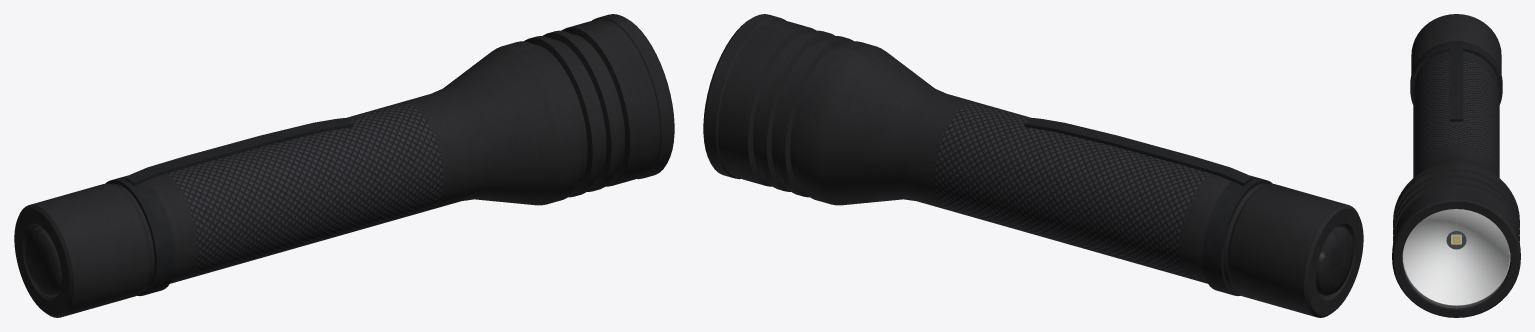
File: led_flashlight.glb
3 renders of one model, left to right at view 1: azimuth 30°, elevation 25°; view 2: azimuth 150°, elevation 25°; view 3: azimuth 270°, elevation 25°, orthographic. The views are drawn at different scales.
Parts seen in each view (by area): view 1: Flashlight body (black anodised aluminium), Pocket clip (spring steel), Clip clamp ring, Tail switch boot (rubber); view 2: Flashlight body (black anodised aluminium), Pocket clip (spring steel), Clip clamp ring, Tail switch boot (rubber); view 3: Flashlight body (black anodised aluminium), Front lens, Smooth reflector (polished), Pocket clip (spring steel), Clip clamp ring, LED board, LED emitter.
Boxes of the visible parts, <box> form: Flashlight body (black anodised aluminium): <box>14,14,674,317</box>; Pocket clip (spring steel): <box>125,118,353,185</box>; Clip clamp ring: <box>105,175,175,295</box>; Tail switch boot (rubber): <box>24,226,61,295</box>; Flashlight body (black anodised aluminium): <box>703,14,1363,317</box>; Pocket clip (spring steel): <box>1024,118,1252,185</box>; Clip clamp ring: <box>1202,175,1272,295</box>; Tail switch boot (rubber): <box>1316,226,1353,295</box>; Flashlight body (black anodised aluminium): <box>1392,14,1520,317</box>; Front lens: <box>1403,209,1509,307</box>; Smooth reflector (polished): <box>1402,209,1510,305</box>; Pocket clip (spring steel): <box>1449,41,1463,121</box>; Clip clamp ring: <box>1410,42,1502,104</box>; LED board: <box>1446,231,1466,249</box>; LED emitter: <box>1450,233,1462,244</box>.
Bounding box in the file's own units: 0.16 × 0.0394 × 0.0386.
Materials: 8 (8 with a texture image).
